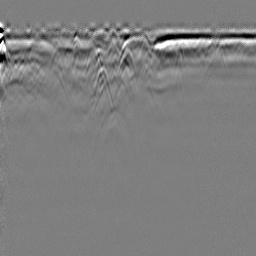cavity: (118, 45, 137, 80)
